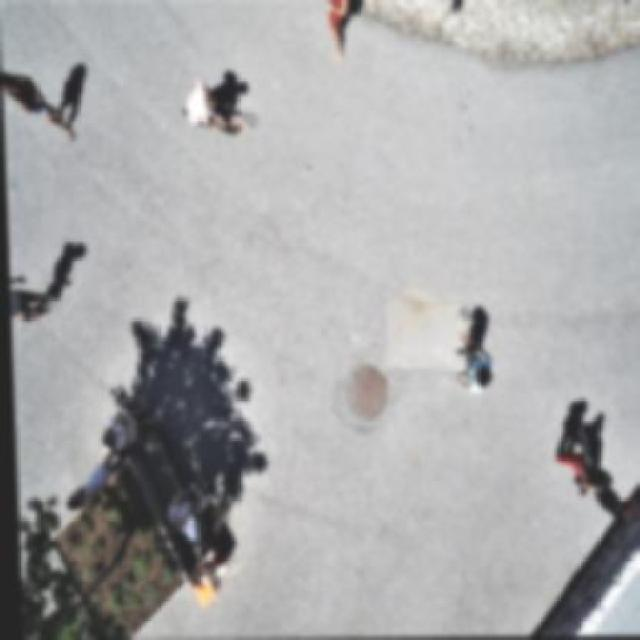Person: (3, 68, 79, 152), (94, 392, 158, 456), (172, 77, 240, 137), (55, 452, 116, 516), (450, 330, 508, 393), (313, 0, 352, 75), (557, 457, 615, 494), (588, 485, 638, 526)
